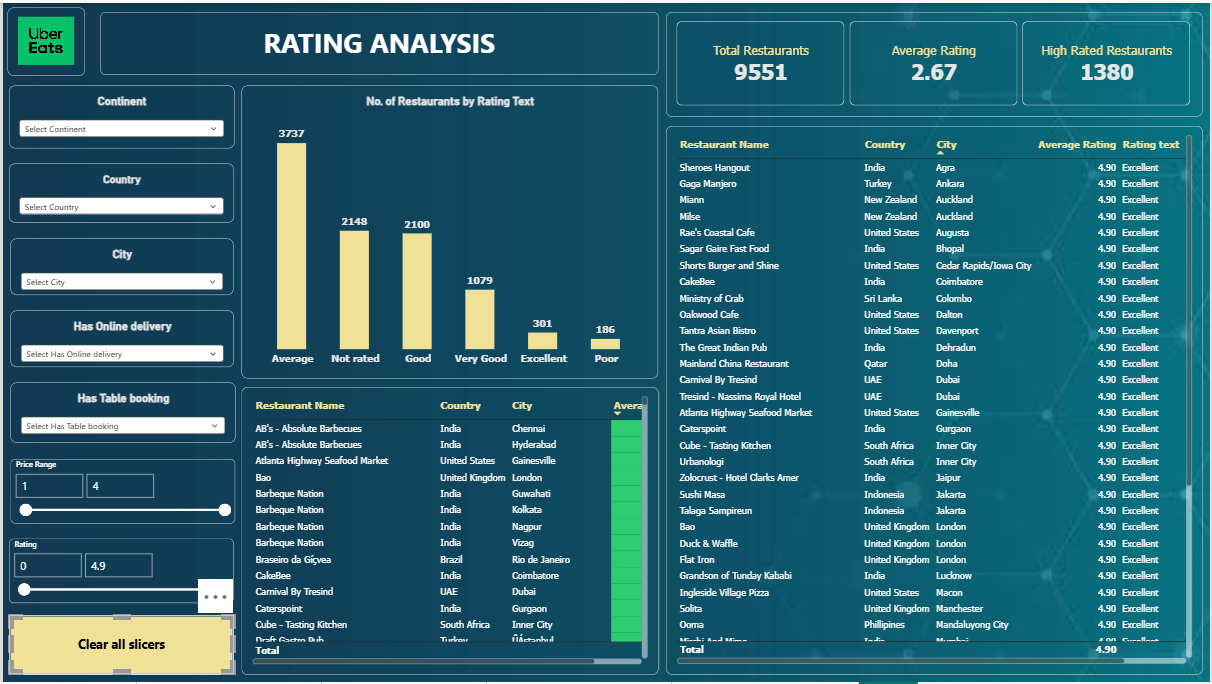

The page's visual inventory and layout, read from the dashboard file:
{"tool":"powerbi","page":{"name":"Rating Analysis","canvas":[1920,1080],"ordinal":1},"visuals":[{"type":"image","box":[0,0,1920,1080],"z":0},{"type":"cardVisual","fields":{"Data":["Rest Measures.Total Restaurants","Rest Measures.Average Rating","Rest Measures.High Rated Restaurants"]},"box":[1055,15,853.3,166.7],"z":1000},{"type":"clusteredColumnChart","title":"No. of Restaurants by Rating Text","fields":{"Category":["KPIs.Rating text"],"Y":["CountNonNull(KPIs.Restaurant ID)"]},"box":[380,131.4,662.9,465.7],"z":2000},{"type":"tableEx","fields":{"Values":["Append1.Restaurant Name","Append1.Country","Append1.City","Rest Measures.Average Rating"]},"box":[380,610,663.3,458.1],"z":3000},{"type":"tableEx","fields":{"Values":["Append1.Restaurant Name","Append1.Country","Append1.City","Rest Measures.Average Rating","KPIs.Rating text","Sum(KPIs.Votes)"]},"box":[1055,196.2,853.8,872.5],"z":4000},{"type":"image","box":[8.3,8.3,123.3,108.3],"z":5000},{"type":"listSlicer","fields":{"Values":["Append1.Continent Hierarchy.Continent"]},"box":[10,131.5,358.5,100],"z":6000},{"type":"listSlicer","fields":{"Values":["Append1.Continent Hierarchy.Country"]},"box":[10,256.4,358,94],"z":7000},{"type":"listSlicer","fields":{"Values":["Append1.Continent Hierarchy.City"]},"box":[12.3,375.4,354.6,90],"z":8000},{"type":"listSlicer","fields":{"Values":["KPIs.Has Online delivery"]},"box":[12.2,490,355.6,90],"z":9000},{"type":"listSlicer","fields":{"Values":["KPIs.Has Table booking"]},"box":[12.5,604.6,358,96],"z":10000},{"type":"slicer","title":"Rating","fields":{"Values":["KPIs.Price range"]},"box":[12.5,725.3,357.5,102.5],"z":11000},{"type":"slicer","title":"Rating","fields":{"Values":["KPIs.Aggregate rating"]},"box":[10,852.5,357.5,102.5],"z":12000},{"type":"actionButton","box":[10,972.5,357.5,95],"z":13000},{"type":"textbox","box":[155,15,887.5,100],"z":14000}]}

Visuals, with their boxes in screenshot pixels (x1, y1, x2, y2), scaled from the page's 1920x1080 canvas onto the 1212x684 screenshot:
image: pyautogui.locateOnScreen(0, 0, 1211, 683)
cardVisual - Rest Measures.Total Restaurants x Rest Measures.Average Rating: pyautogui.locateOnScreen(666, 10, 1205, 115)
"No. of Restaurants by Rating Text" clusteredColumnChart: pyautogui.locateOnScreen(240, 83, 658, 378)
tableEx - Append1.Restaurant Name x Append1.Country: pyautogui.locateOnScreen(240, 386, 659, 676)
tableEx - Append1.Restaurant Name x Append1.Country: pyautogui.locateOnScreen(666, 124, 1205, 677)
image: pyautogui.locateOnScreen(5, 5, 83, 74)
listSlicer - Append1.Continent Hierarchy.Continent: pyautogui.locateOnScreen(6, 83, 233, 147)
listSlicer - Append1.Continent Hierarchy.Country: pyautogui.locateOnScreen(6, 162, 232, 222)
listSlicer - Append1.Continent Hierarchy.City: pyautogui.locateOnScreen(8, 238, 232, 295)
listSlicer - KPIs.Has Online delivery: pyautogui.locateOnScreen(8, 310, 232, 367)
listSlicer - KPIs.Has Table booking: pyautogui.locateOnScreen(8, 383, 234, 444)
"Rating" slicer: pyautogui.locateOnScreen(8, 459, 234, 524)
"Rating" slicer: pyautogui.locateOnScreen(6, 540, 232, 605)
actionButton: pyautogui.locateOnScreen(6, 616, 232, 676)
textbox: pyautogui.locateOnScreen(98, 10, 658, 73)
